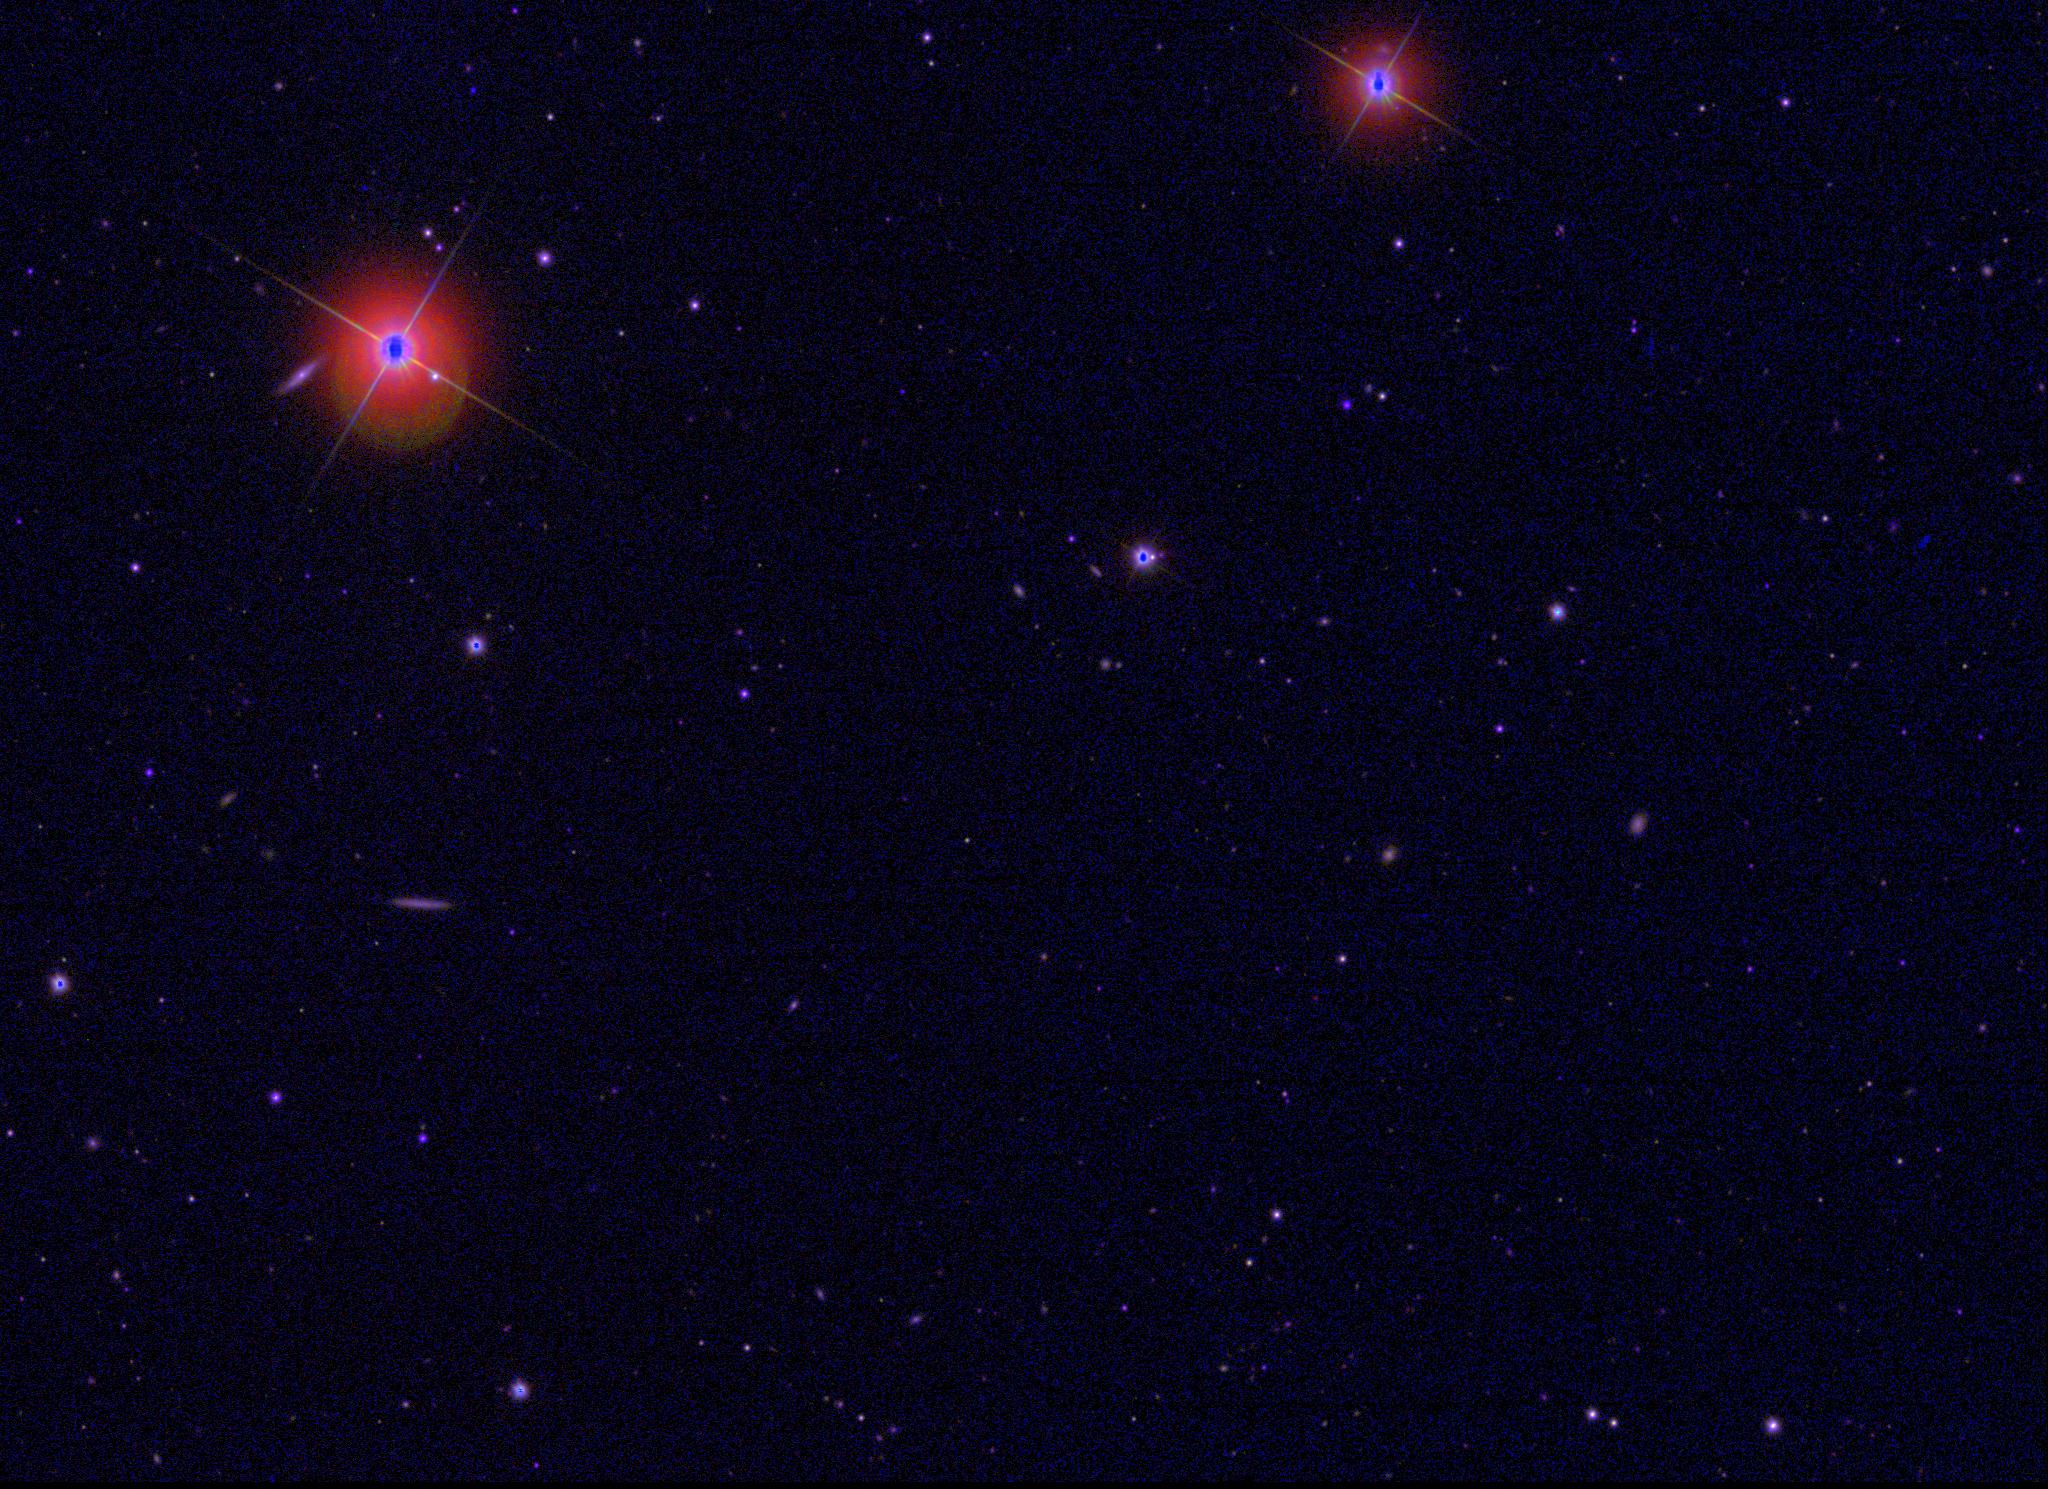L: (463, 83, 477, 97)
